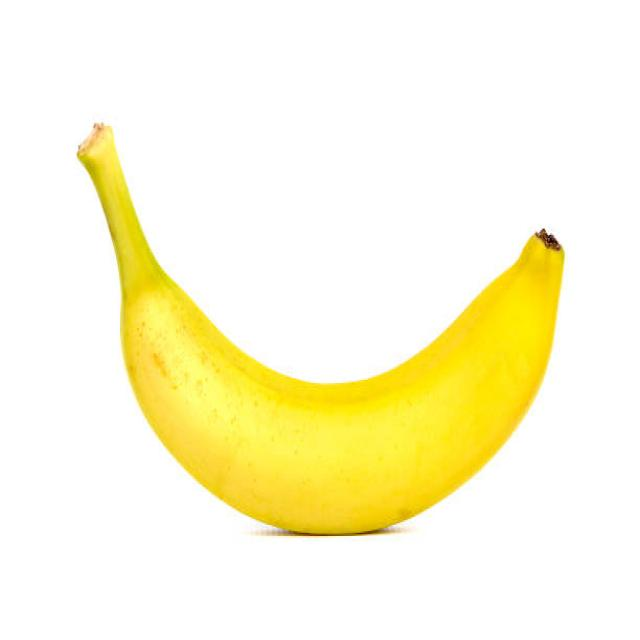Ripe: (80, 114, 568, 539)
